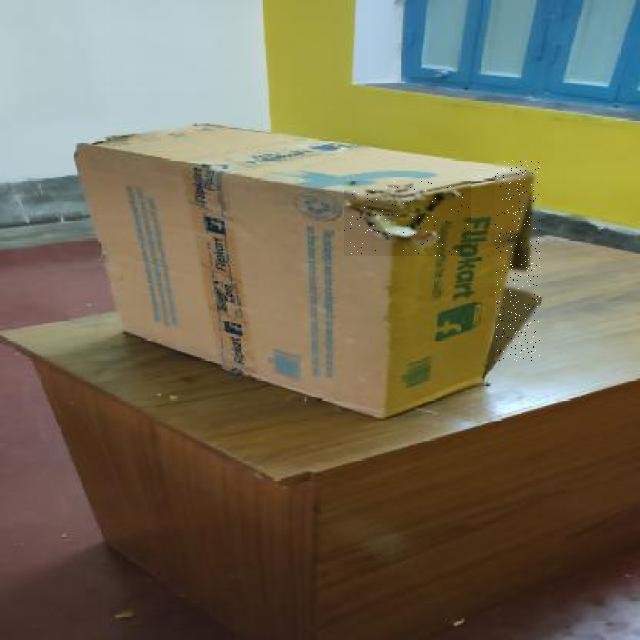squeeze: (345, 181, 471, 256)
tear: (496, 160, 540, 361)
